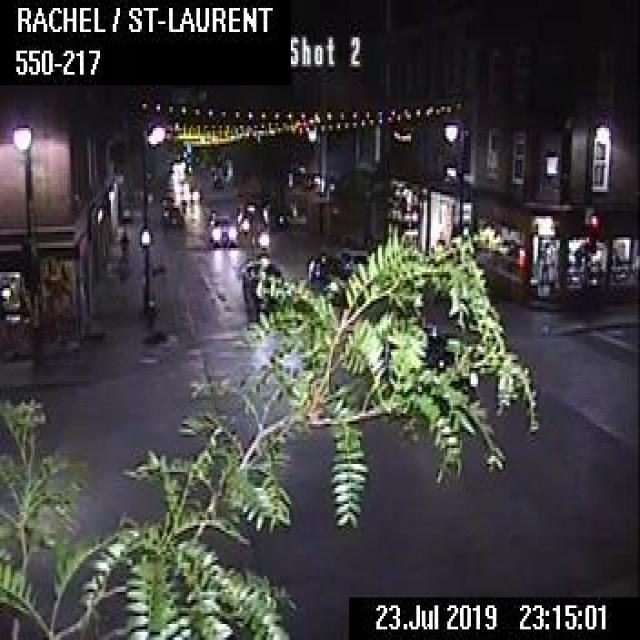pedestrian: (118, 226, 127, 260)
vehicle: (304, 252, 363, 306), (239, 258, 289, 312), (206, 217, 236, 246), (236, 204, 262, 231), (158, 206, 180, 224), (183, 187, 202, 200)
